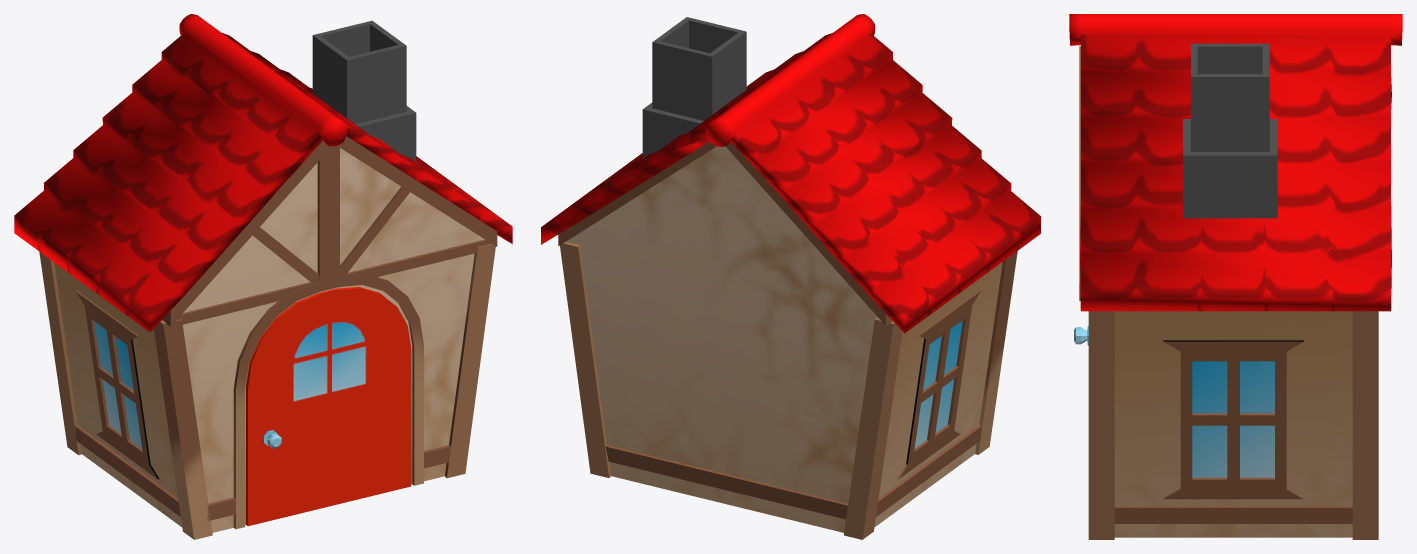
The model's file is house1.fbx.
3 views of the same model, side by side, from view 1: azimuth 30°, elevation 25°; view 2: azimuth 150°, elevation 25°; view 3: azimuth 270°, elevation 25° (orthographic). The views are drawn at different scales.
Parts seen in each view (by area): view 1: house1, toitrougeanilow.001, doorougehouse1.001; view 2: house1, toitrougeanilow.001; view 3: house1, toitrougeanilow.001.
Part boxes in pixels (x1,y1,x2,y2): house1: (39,20,497,539); toitrougeanilow.001: (14,14,512,332); doorougehouse1.001: (246,287,411,526); house1: (558,17,1017,539); toitrougeanilow.001: (541,14,1040,333); house1: (1079,43,1378,539); toitrougeanilow.001: (1069,14,1402,311).
Bounding box in the file's own units: 207 × 218 × 144.
Materials: 1 (1 with a texture image).
